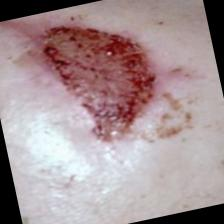burns: (0, 0, 193, 166)
